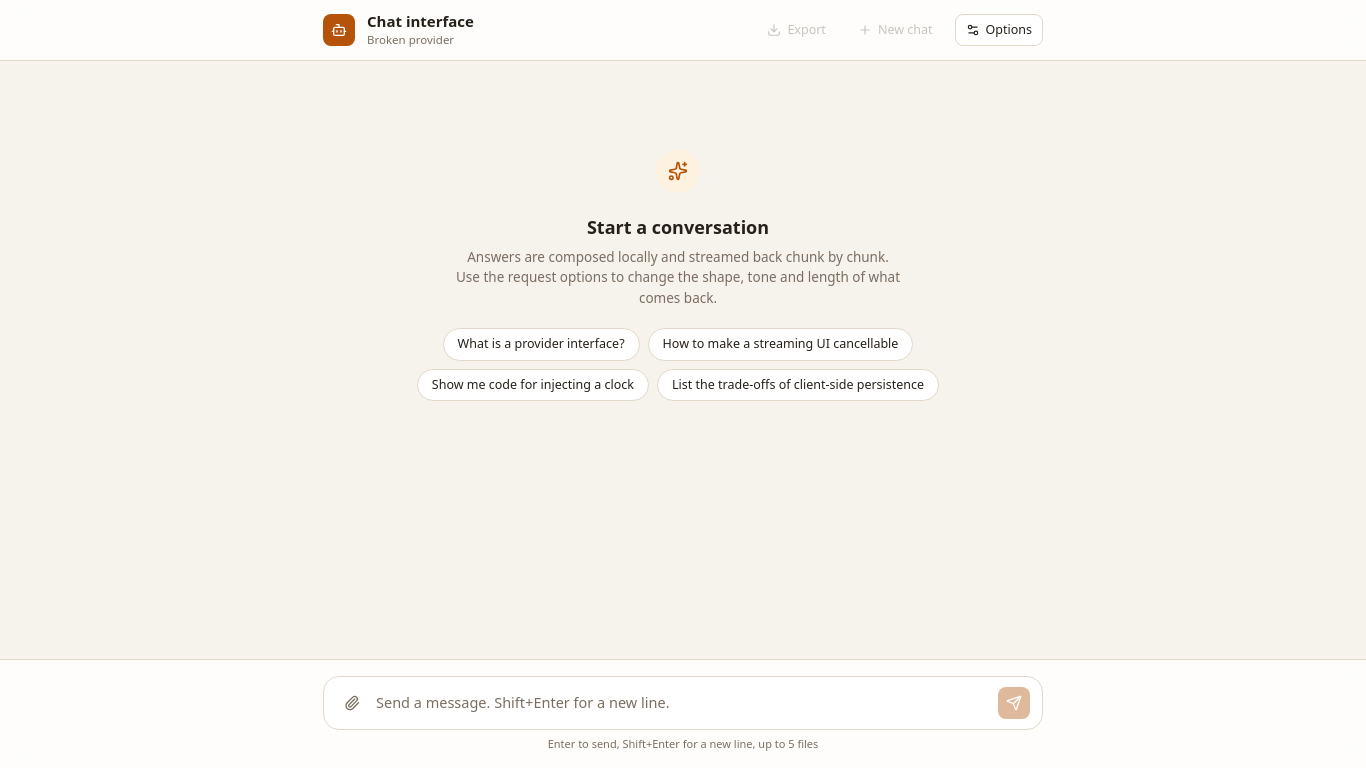
App › reports a provider failure and offers a retry
Type "anything" into the text box labelled "Send a message. Shift+Enter for a new line." at (683, 702), box [376, 686, 990, 718]
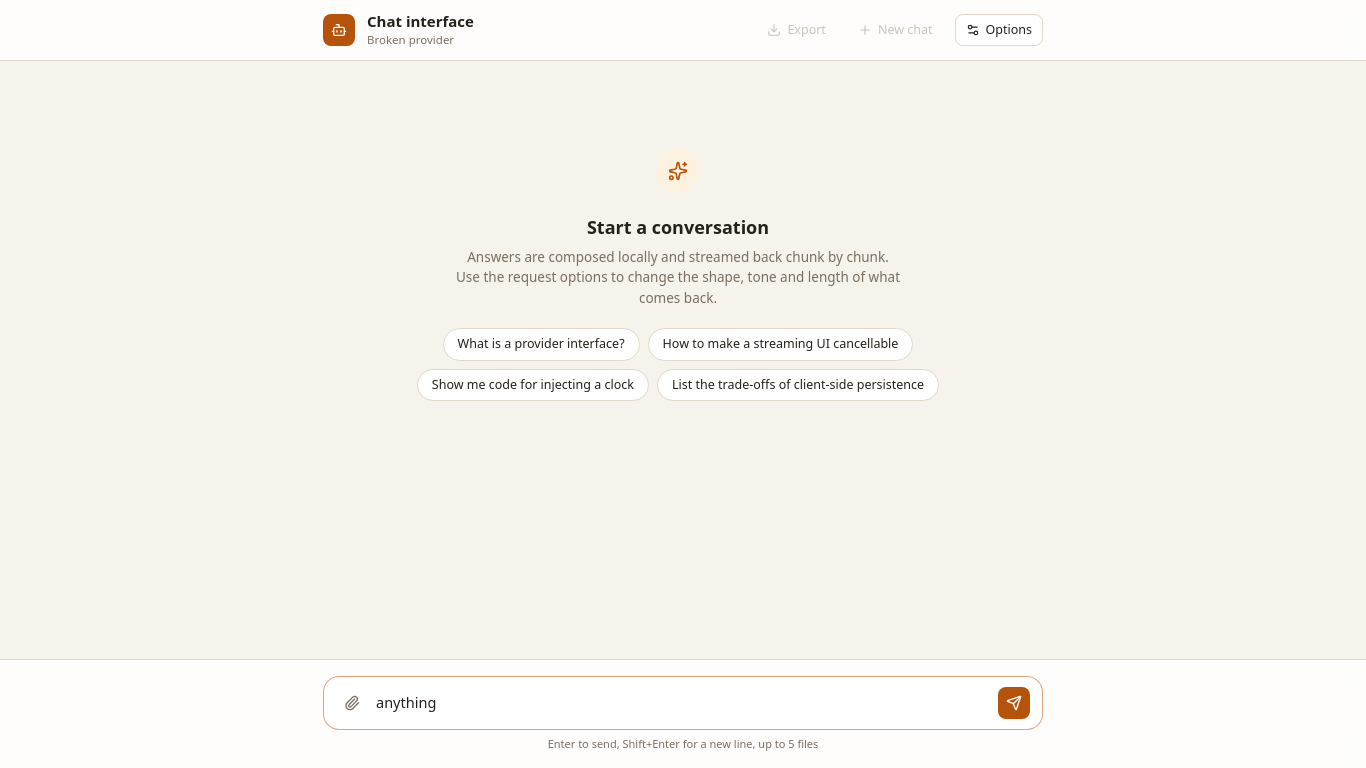
Click the button named "send message" at (1014, 702), box [998, 686, 1030, 718]
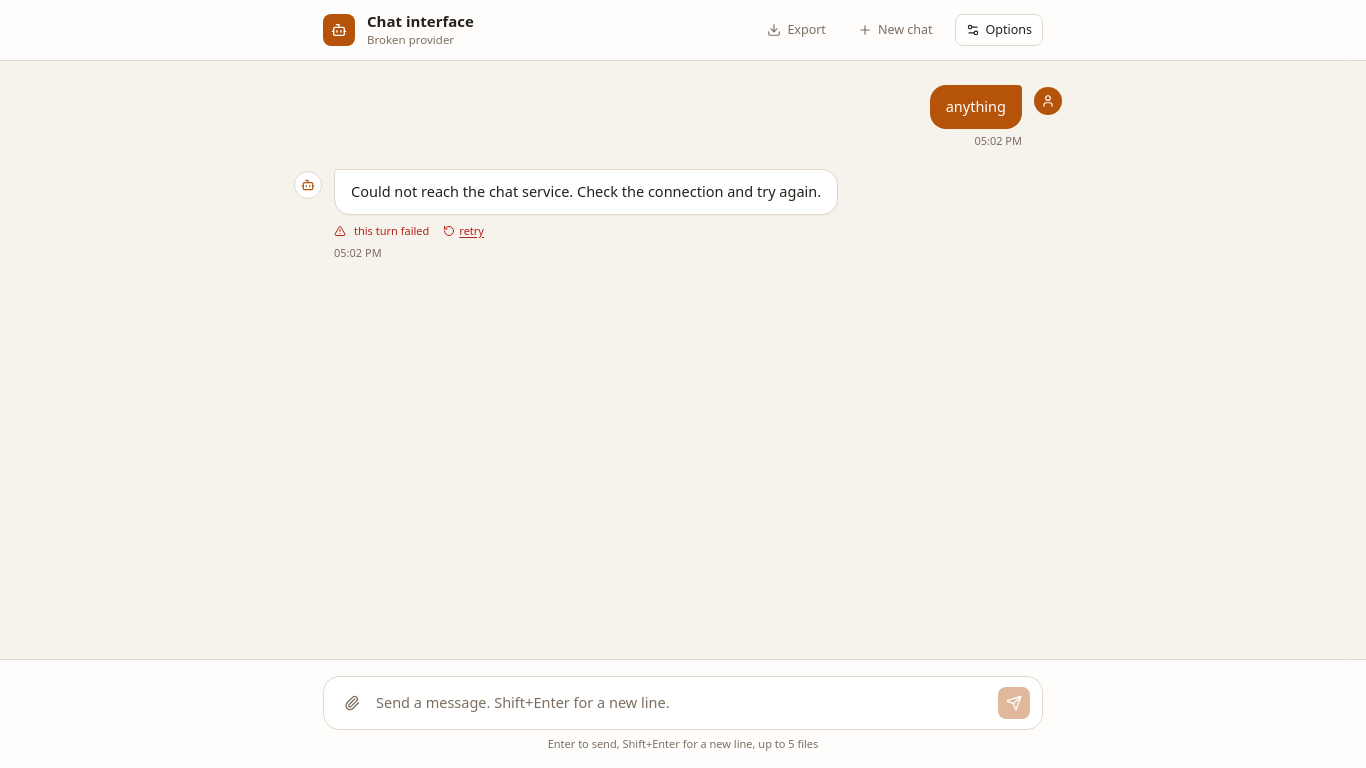
expect the element named "Assistant message" shows "Could not reach the chat service": met, box [351, 181, 821, 201]
expect the button "retry" is shown: met, box [437, 221, 490, 241]
